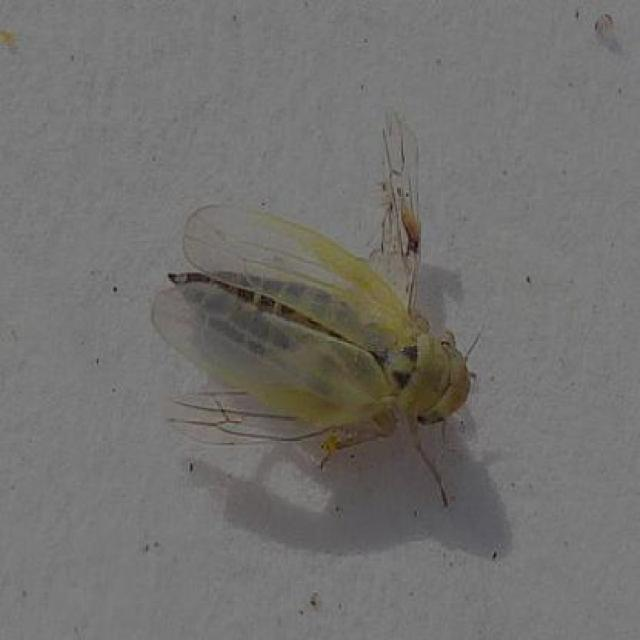green-leafhopper: (140, 193, 469, 476)
